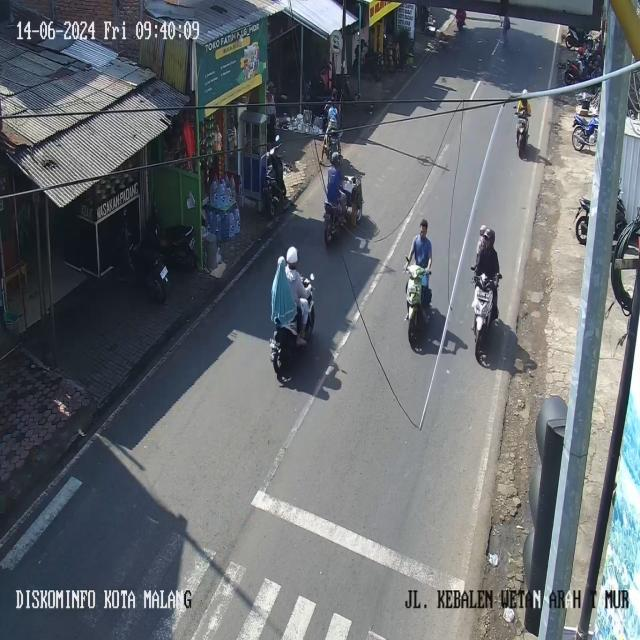Helmet: (286, 246, 297, 263), (483, 228, 494, 243), (331, 151, 340, 165), (479, 224, 487, 235), (521, 89, 527, 98)
Number Plate: (160, 266, 167, 278)
